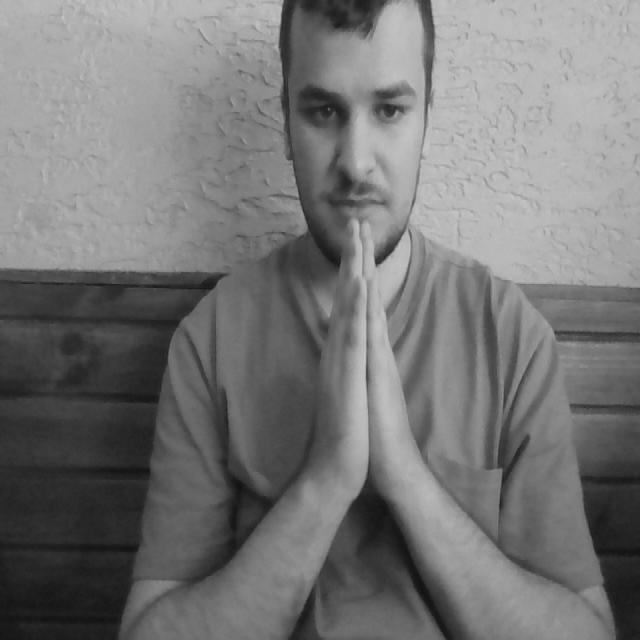Ozur-Dilemek: (307, 214, 428, 534)
